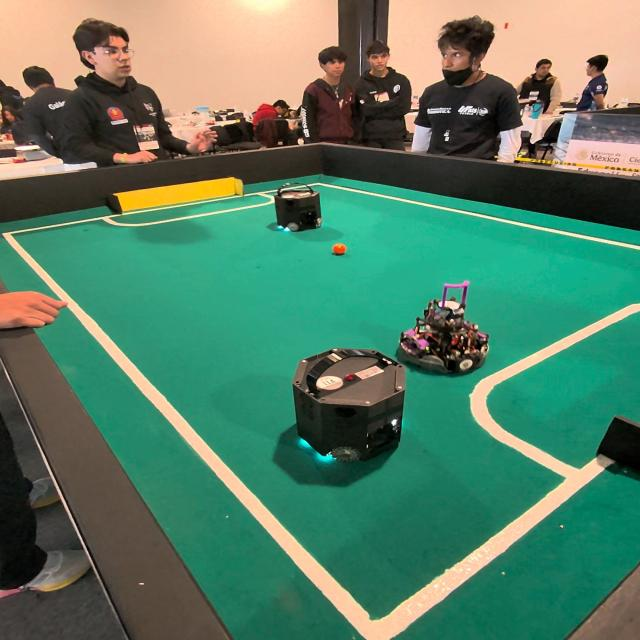Robot: (288, 334, 412, 489), (399, 290, 491, 380), (271, 180, 324, 242)
pelota: (334, 243, 348, 255)
